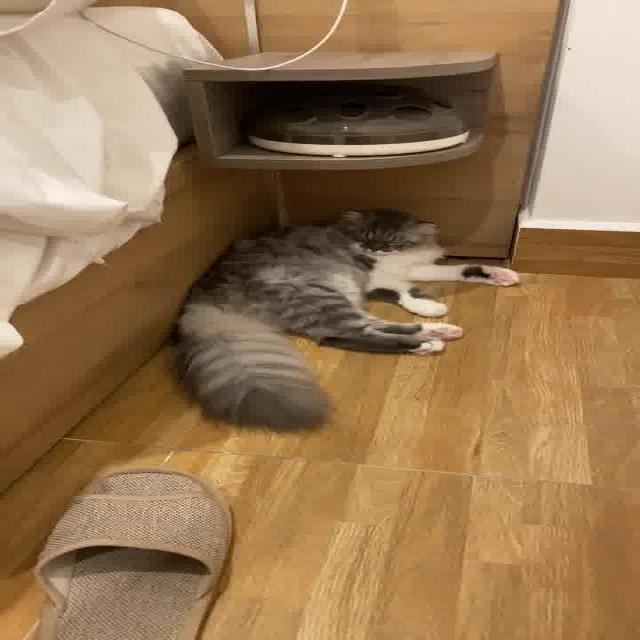cat: (173, 203, 526, 434)
